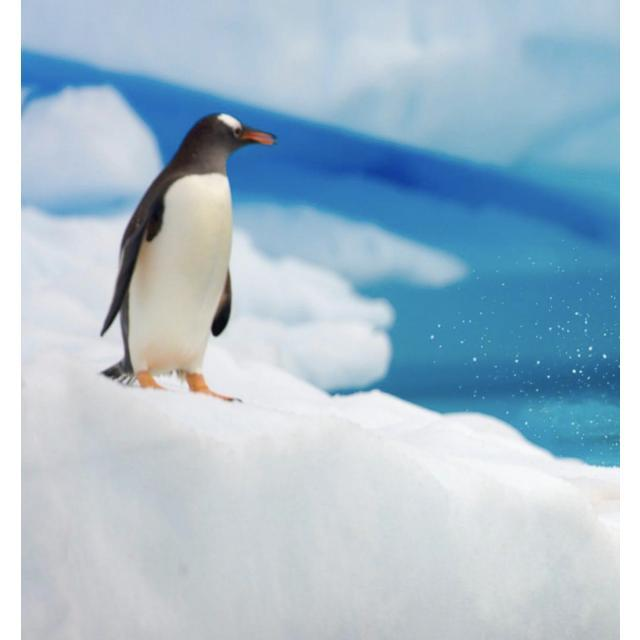penguin: (97, 112, 279, 404)
